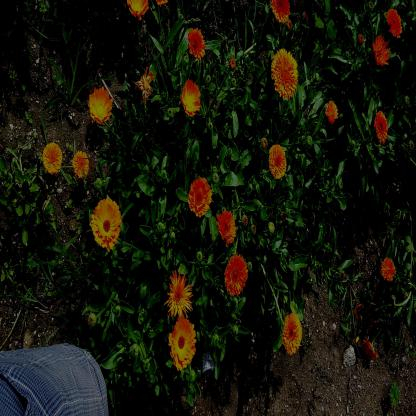marigold: (271, 49, 298, 98), (94, 200, 120, 246), (169, 320, 196, 364), (167, 272, 191, 315), (227, 254, 247, 295), (280, 312, 301, 350), (268, 144, 290, 180), (190, 177, 210, 216), (181, 81, 201, 118), (89, 89, 111, 122), (219, 210, 240, 244), (42, 140, 63, 172), (186, 30, 205, 57), (374, 36, 390, 66), (270, 0, 289, 23), (374, 110, 388, 140), (129, 0, 148, 21), (72, 152, 89, 175), (388, 10, 403, 36), (383, 258, 394, 280)
